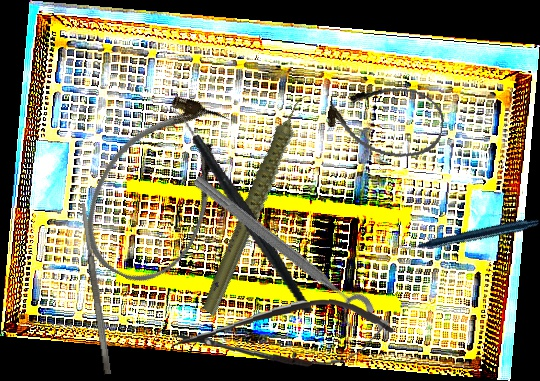Cannula: (65, 79, 252, 298), (322, 74, 449, 165)
Chopper: (160, 86, 314, 335)
Fixation Ring: (181, 169, 378, 335)
Handpiece: (160, 91, 356, 318), (397, 170, 540, 297)
Micro Scissor: (169, 295, 396, 375)
Spatula Surgical: (79, 202, 112, 375)
